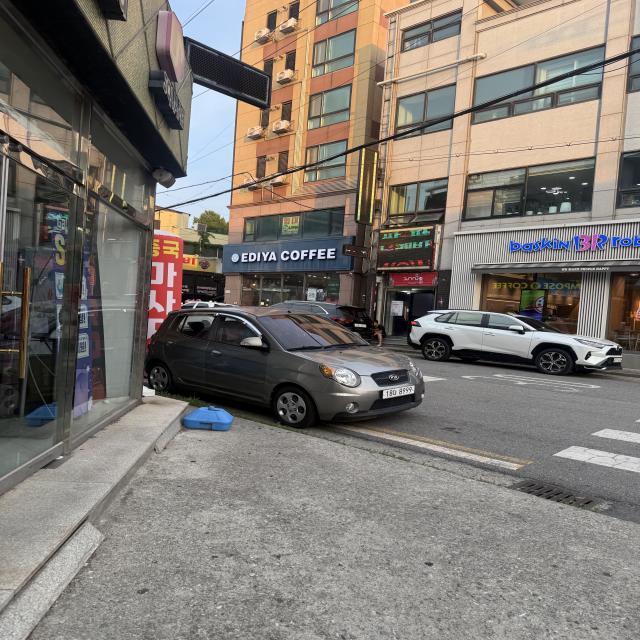car: (145, 300, 401, 429), (422, 308, 620, 375), (248, 297, 382, 354), (177, 296, 253, 319)
